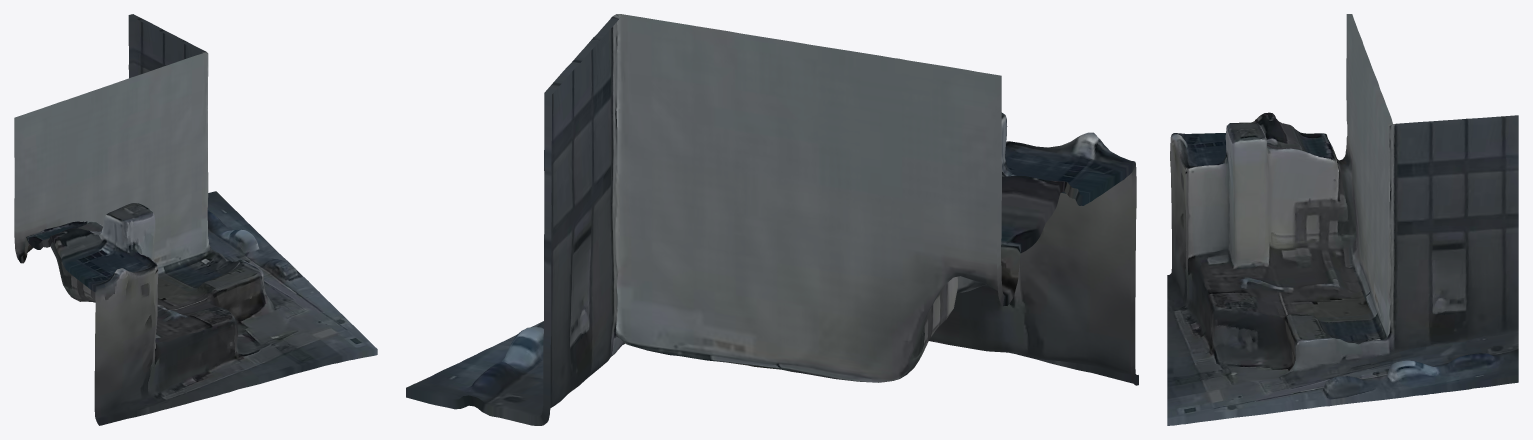
The model's file is z20-167758-405235-h0-yup-uvflip-v3-world.glb.
3 views of the same model, side by side, from view 1: azimuth 30°, elevation 25°; view 2: azimuth 150°, elevation 25°; view 3: azimuth 270°, elevation 25° (orthographic). The views are drawn at different scales.
Bounding box in the file's own units: 30.16 × 25.48 × 30.32.
Materials: 1 (1 with a texture image).
